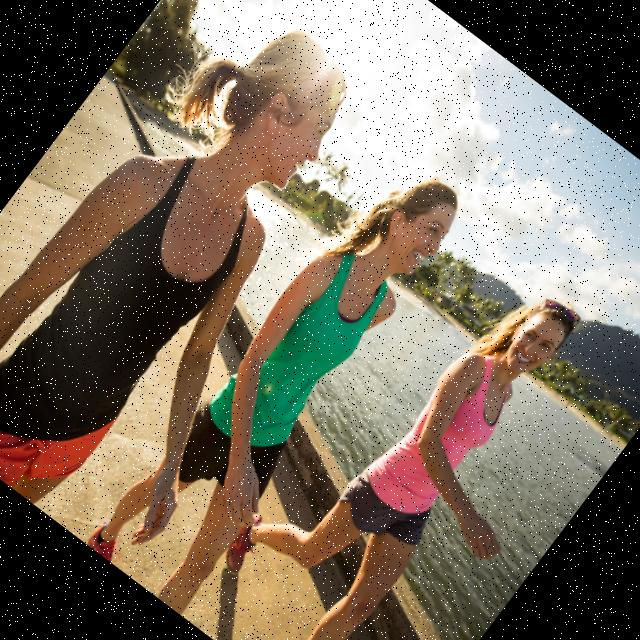Person: (0, 0, 454, 577), (85, 139, 490, 619), (179, 229, 640, 640)
